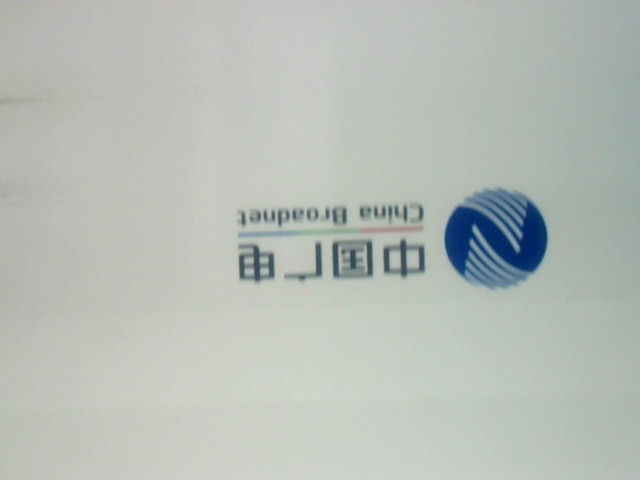AW_ChinaBroadNet: (220, 171, 566, 295)
